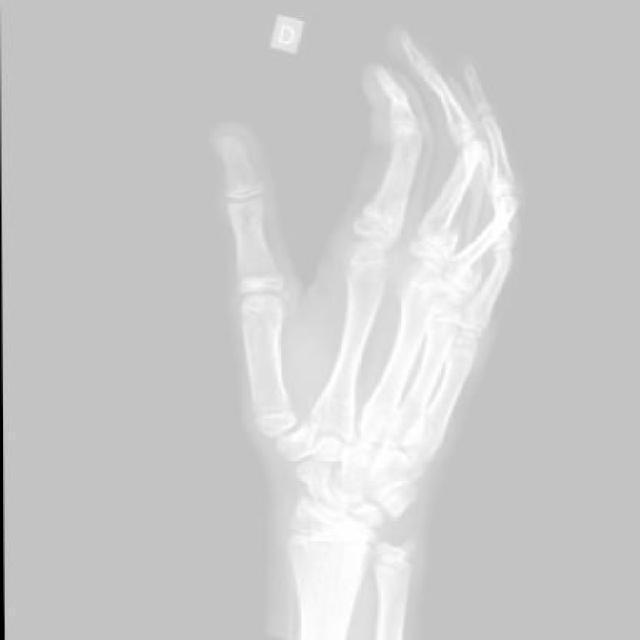Fracture: (408, 206, 461, 262), (436, 246, 481, 292)
